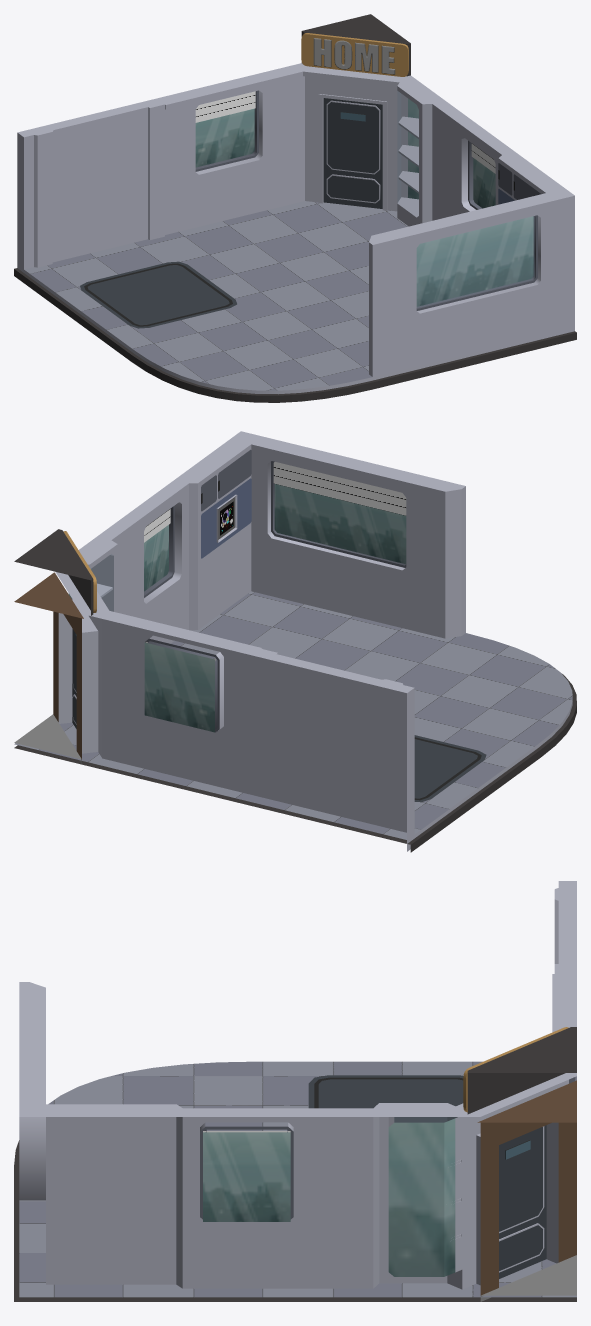
Rendered from interior_E_001.fbx.
3 renders of one model, top to bottom at view 1: azimuth 30°, elevation 25°; view 2: azimuth 150°, elevation 25°; view 3: azimuth 270°, elevation 25°, orthographic. The views are drawn at different scales.
Visible parts, largest first — view 1: interior_E_001; view 2: interior_E_001; view 3: interior_E_001.
Part boxes in pixels (left/top/right/bottom): interior_E_001: left=14, top=14, right=576, bottom=402; interior_E_001: left=14, top=431, right=576, bottom=852; interior_E_001: left=14, top=881, right=576, bottom=1301.
Bounding box in the file's own units: 707 × 331 × 707.
